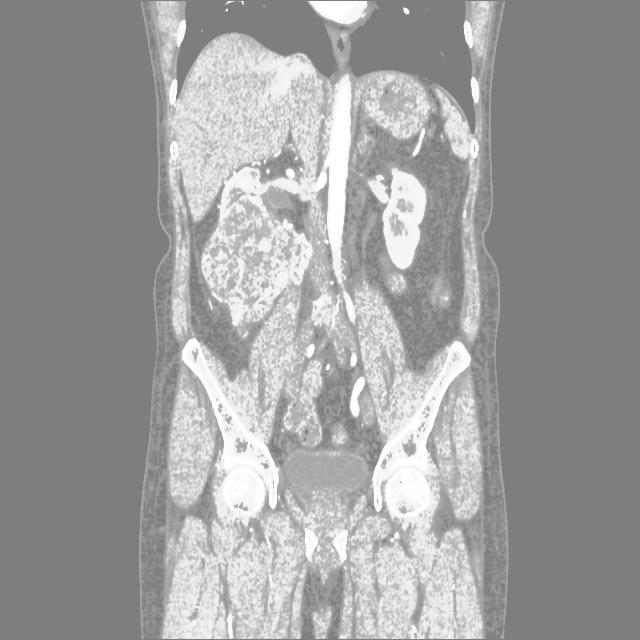TUMOR: (154, 150, 532, 350)
